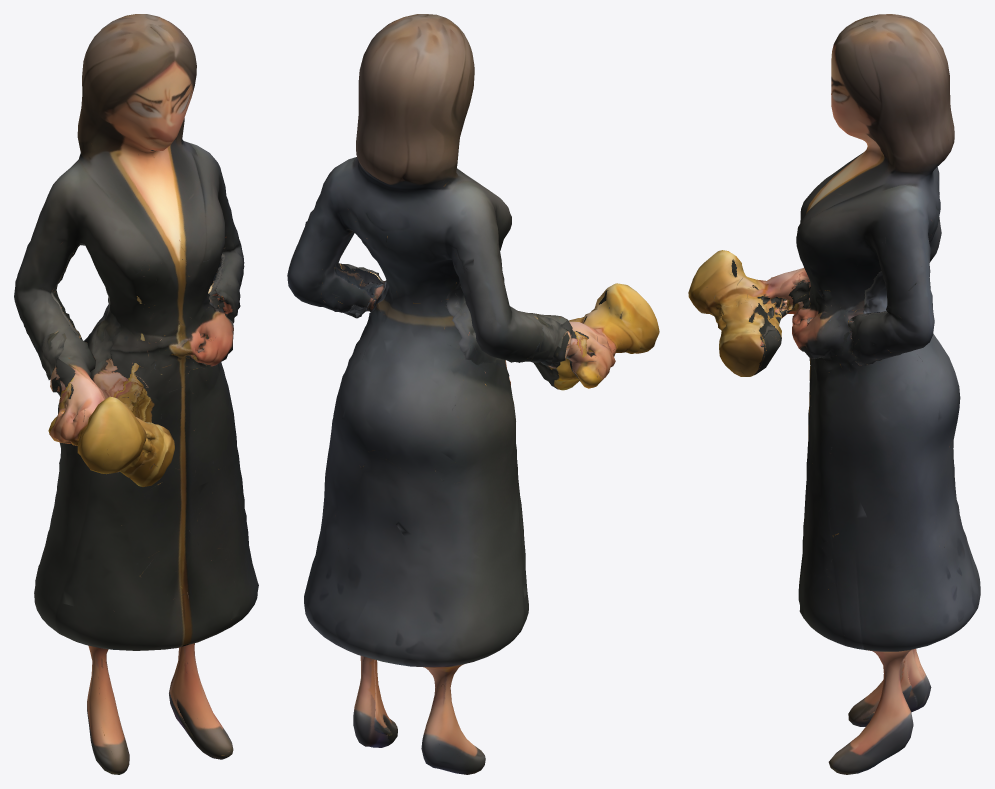
File: f7f66674-08f5-4435-8994-998fe60bccff.glb
3 views of the same model, side by side, from view 1: azimuth 30°, elevation 25°; view 2: azimuth 150°, elevation 25°; view 3: azimuth 270°, elevation 25° (orthographic). The views are drawn at different scales.
Visible parts, largest first — view 1: Mesh_0.001; view 2: Mesh_0.001; view 3: Mesh_0.001.
Boxes of the visible parts, x1,y1,x2,y2 form: Mesh_0.001: (14,14,258,774); Mesh_0.001: (287,14,659,774); Mesh_0.001: (688,14,980,774).
Size of the model in its own units: 0.4394 by 1.2 by 0.4368.
Materials: 1 (1 with a texture image).
